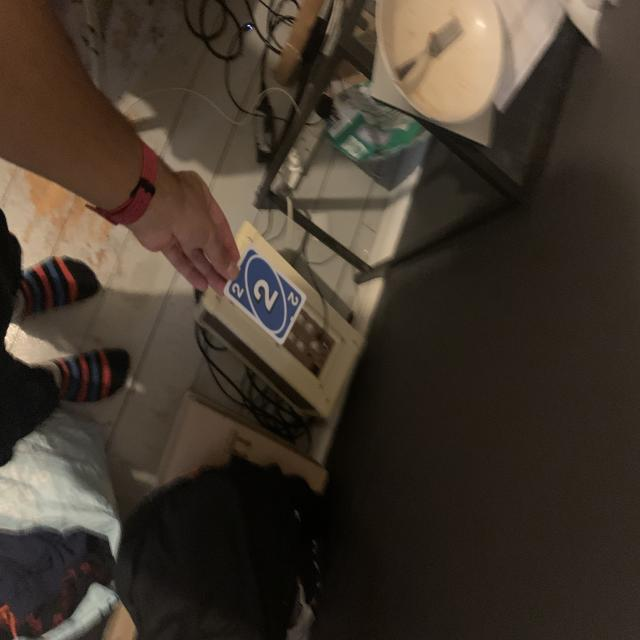lblue-2: (230, 278, 248, 300)
